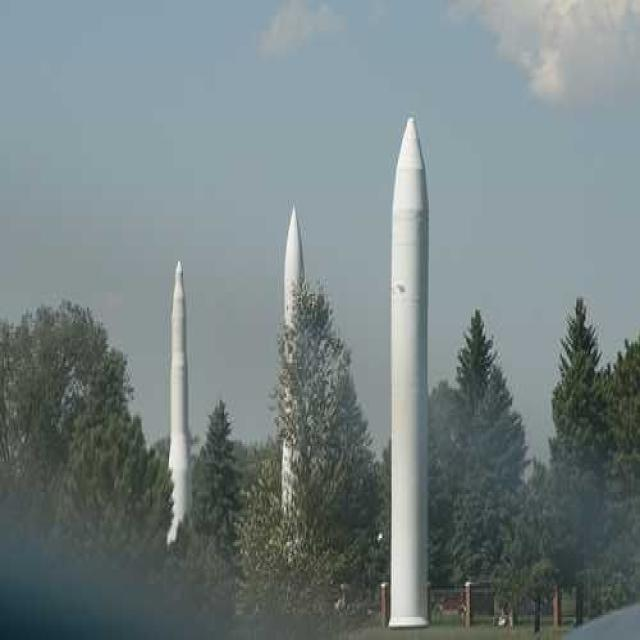missile: (388, 110, 439, 620), (278, 203, 319, 562), (165, 259, 198, 576)
